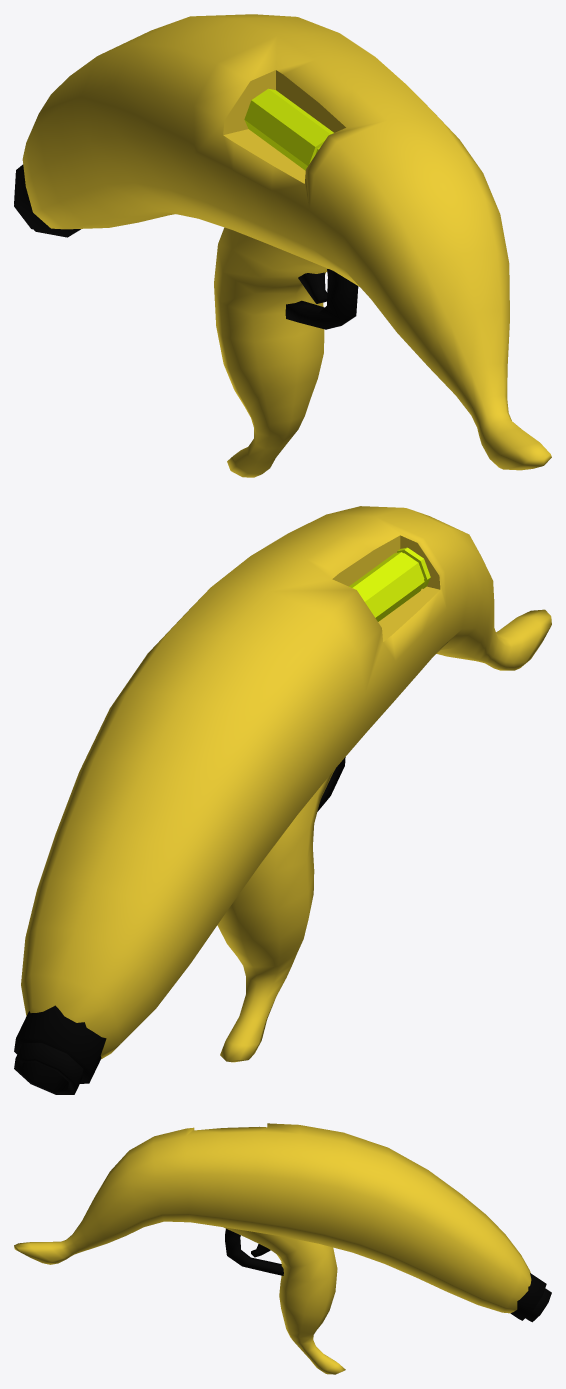
Rendered from gunana.fbx.
3 renders of one model, top to bottom at view 1: azimuth 30°, elevation 25°; view 2: azimuth 150°, elevation 25°; view 3: azimuth 270°, elevation 25°, orthographic. The views are drawn at different scales.
Parts seen in each view (by area): view 1: gunana; view 2: gunana; view 3: gunana.
Part boxes in pixels (<box>): gunana: <box>14,14,551,477</box>; gunana: <box>14,506,551,1094</box>; gunana: <box>14,1123,551,1374</box>.
Bounding box in the file's own units: 13.84 × 33.14 × 66.96.
